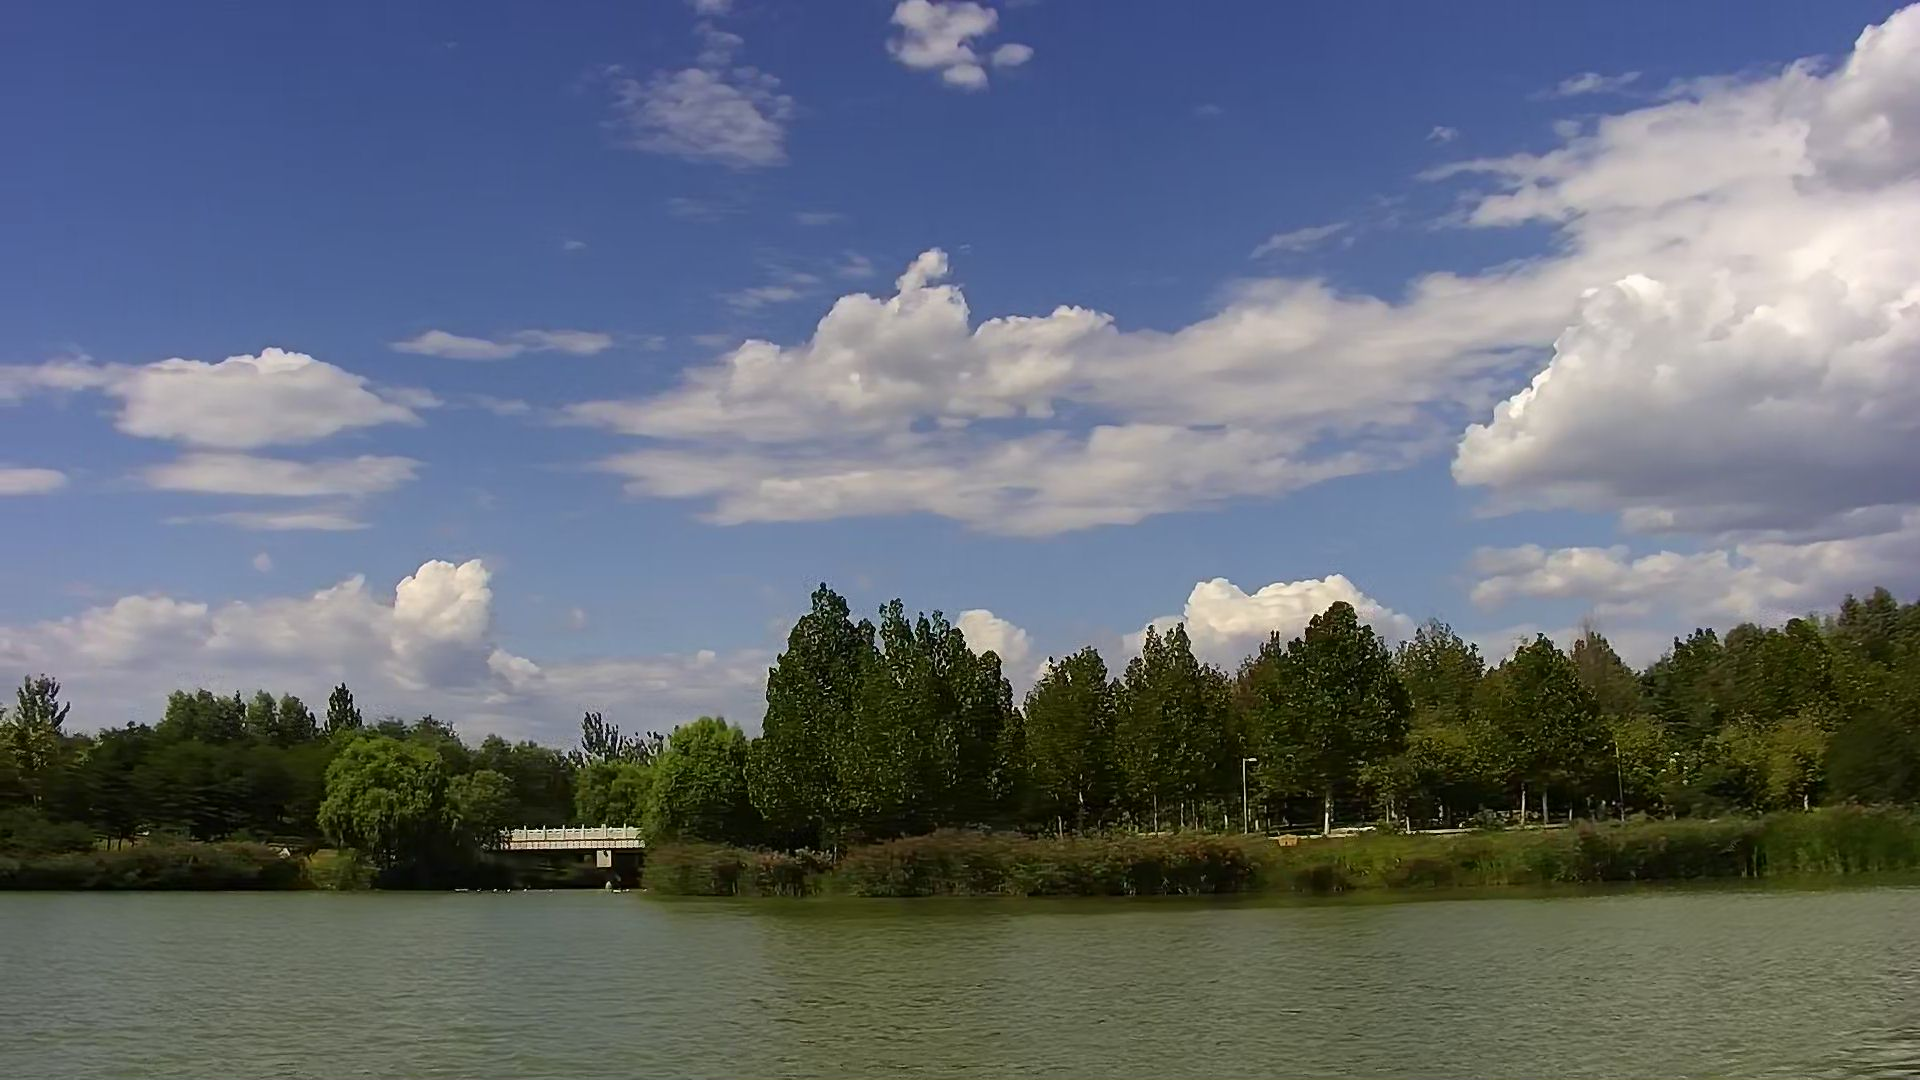bridge: (496, 819, 644, 887)
